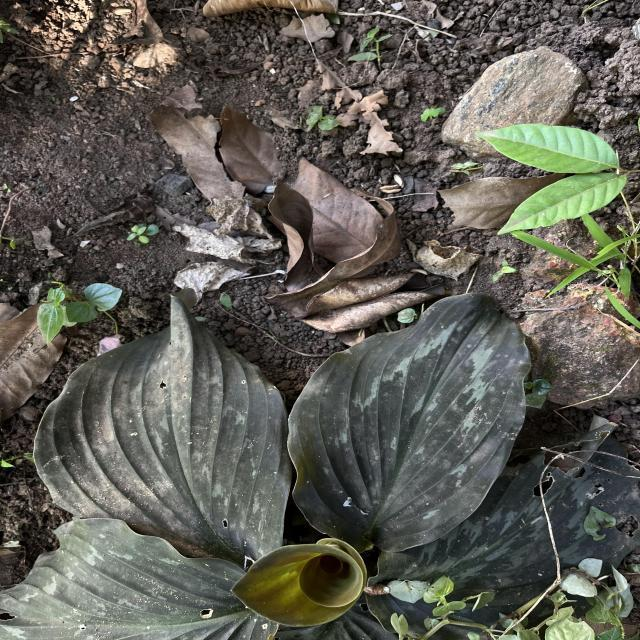Kaempferia galanga linn: (28, 284, 294, 568), (283, 290, 534, 555)
